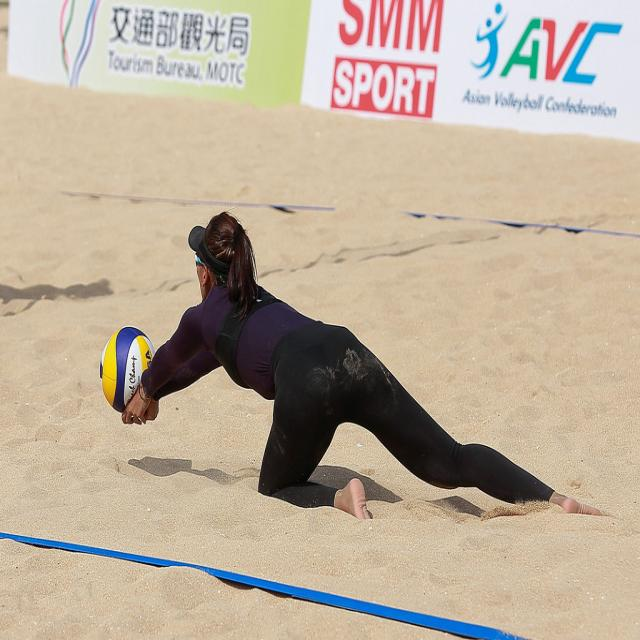lie: (152, 233, 549, 532)
